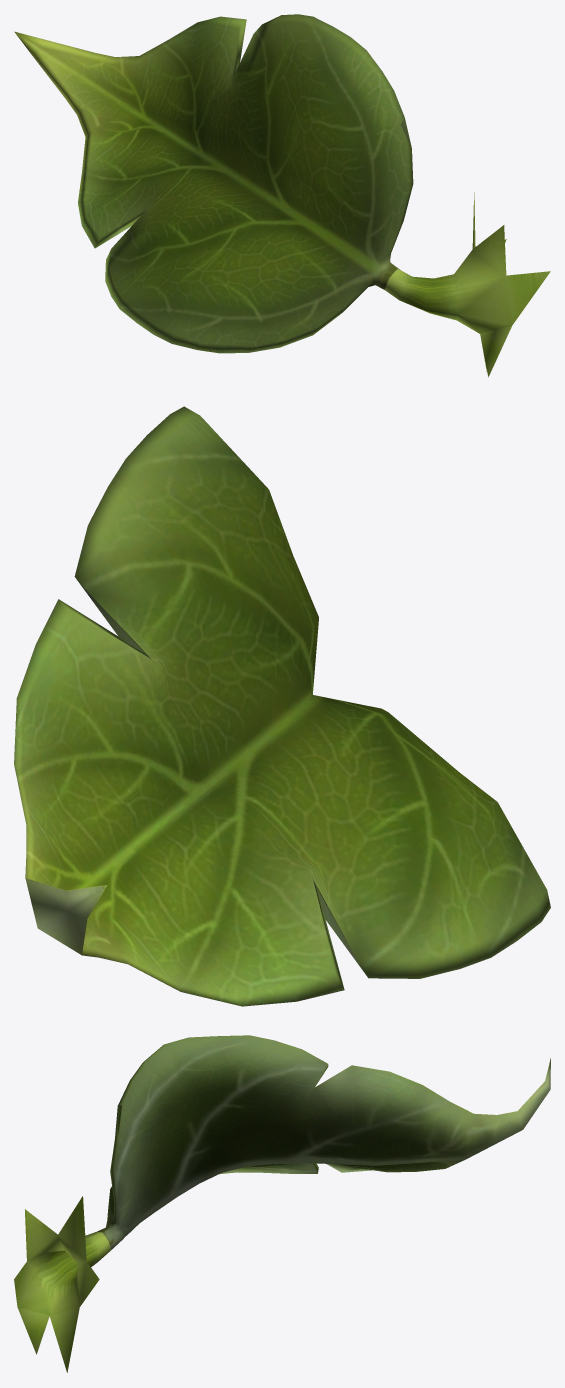
File: sunflower_ala_der.obj
3 renders of one model, top to bottom at view 1: azimuth 30°, elevation 25°; view 2: azimuth 150°, elevation 25°; view 3: azimuth 270°, elevation 25°, orthographic. The views are drawn at different scales.
Parts seen in each view (by area): view 1: sunflower_ala_der; view 2: sunflower_ala_der; view 3: sunflower_ala_der.
Boxes of the visible parts, <box> form: sunflower_ala_der: <box>14,14,550,377</box>; sunflower_ala_der: <box>14,406,550,1006</box>; sunflower_ala_der: <box>14,1035,550,1372</box>.
Bounding box in the file's own units: 0.1815 × 0.1696 × 0.274.
